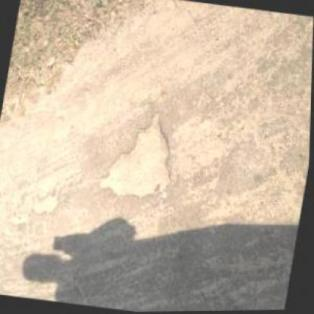Hueco: (94, 102, 184, 206), (32, 186, 60, 218)
